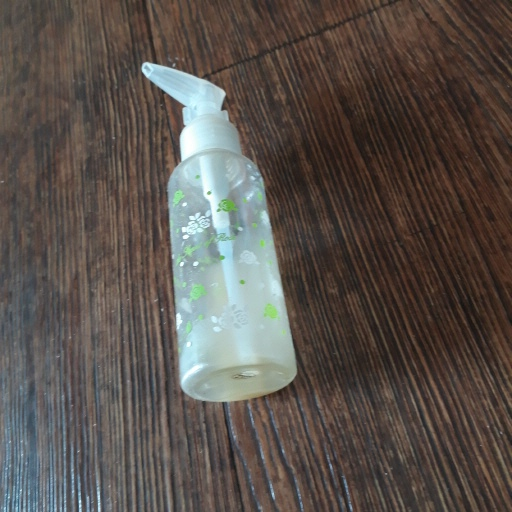Plastic_3: (136, 60, 297, 398)
